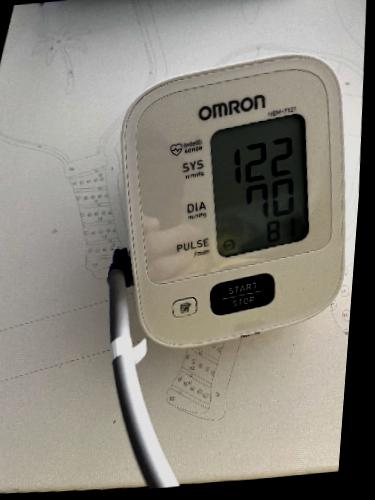bpm: (204, 109, 313, 261)
